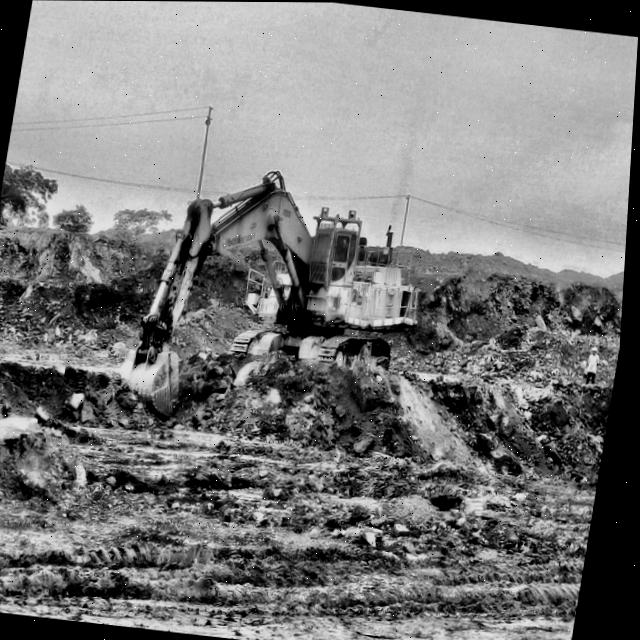excavator: (133, 171, 421, 411)
